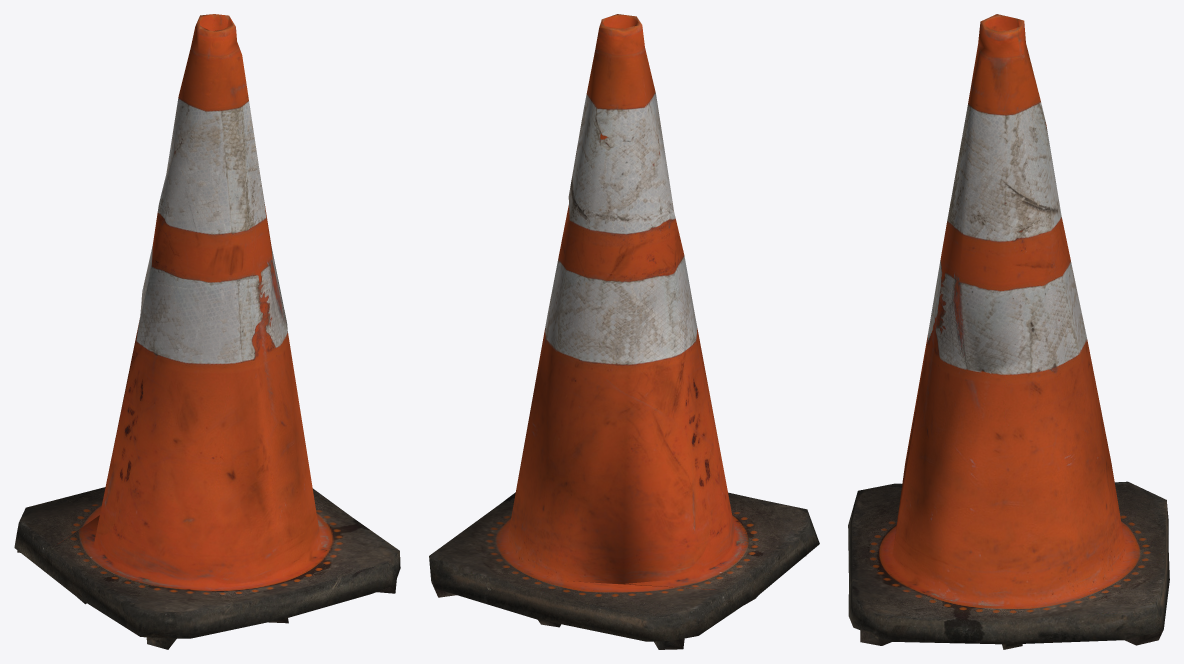
File: traffic_cone_uhcgdgufa_low.glb
3 views of the same model, side by side, from view 1: azimuth 30°, elevation 25°; view 2: azimuth 150°, elevation 25°; view 3: azimuth 270°, elevation 25° (orthographic). The views are drawn at different scales.
Parts seen in each view (by area): view 1: uhcgdgufa_LOD0_TIER3_000; view 2: uhcgdgufa_LOD0_TIER3_000; view 3: uhcgdgufa_LOD0_TIER3_000.
Boxes of the visible parts, bbox=[...] form: uhcgdgufa_LOD0_TIER3_000: bbox=[14, 14, 400, 649]; uhcgdgufa_LOD0_TIER3_000: bbox=[429, 14, 819, 649]; uhcgdgufa_LOD0_TIER3_000: bbox=[848, 14, 1169, 649].
Size of the model in its own units: 0.3571 by 0.6935 by 0.3583.
Materials: 1 (1 with a texture image).
